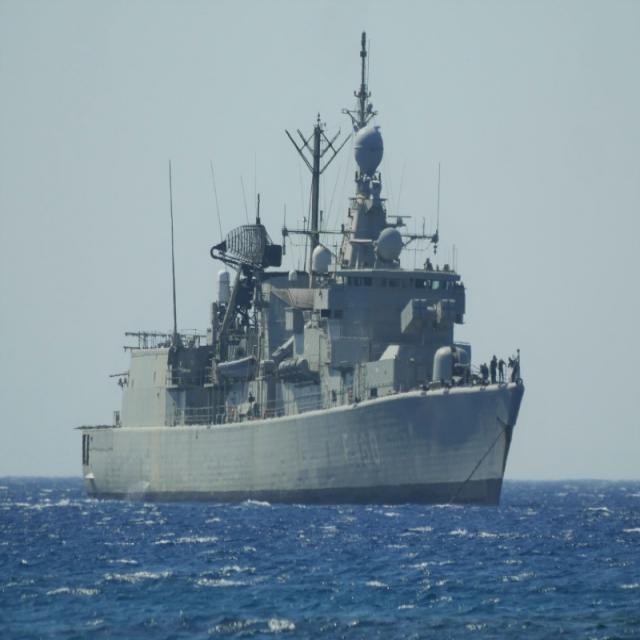Fragata: (74, 21, 528, 511)
